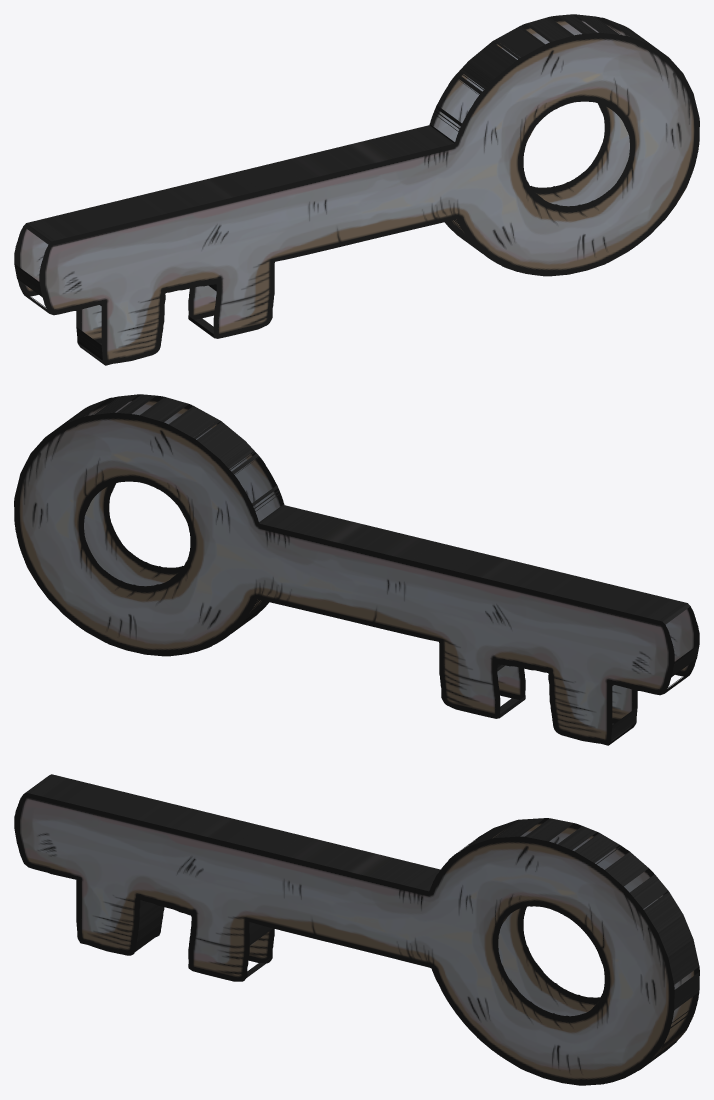
Rendered from key2.fbx.
3 views of the same model, one above another, from view 1: azimuth 30°, elevation 25°; view 2: azimuth 150°, elevation 25°; view 3: azimuth 330°, elevation 25° (orthographic).
Visible parts, largest first — view 1: key1; view 2: key1; view 3: key1.
Part boxes in pixels (<box>): key1: <box>14,14,699,365</box>; key1: <box>14,394,699,745</box>; key1: <box>14,774,699,1085</box>.
Size of the model in its own units: 97.47 by 33.62 by 6.45.
Materials: 1 (1 with a texture image).
